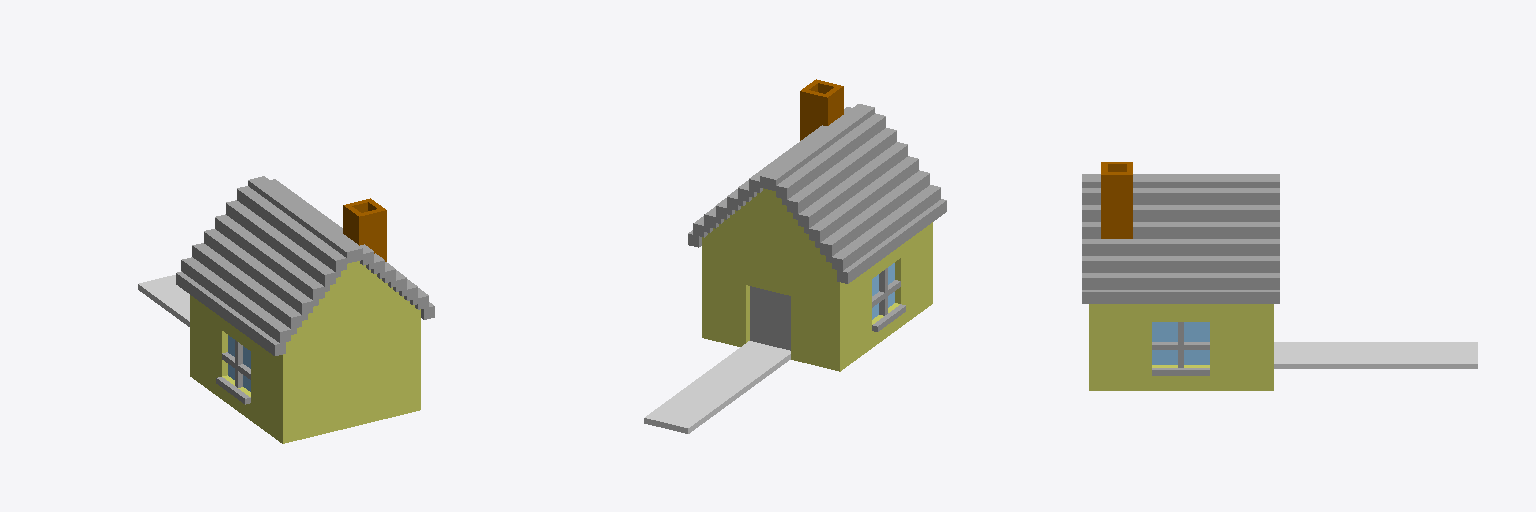
3 views of the same model, side by side, from view 1: azimuth 30°, elevation 25°; view 2: azimuth 150°, elevation 25°; view 3: azimuth 270°, elevation 25° (orthographic).
Parts seen in each view (by area): view 1: object 1; view 2: object 1; view 3: object 1.
Part boxes in pixels (left/top/right/bottom): object 1: left=138, top=176, right=434, bottom=443; object 1: left=644, top=79, right=946, bottom=433; object 1: left=1082, top=162, right=1477, bottom=390.
Bounding box in the file's own units: 2.9 × 3.5 × 6.2.
Materials: 1 (1 with a texture image).